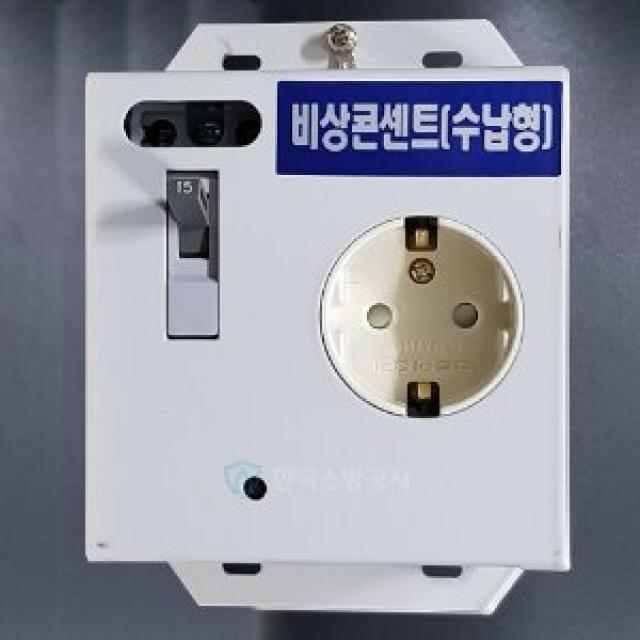typeb: (310, 185, 533, 462)
